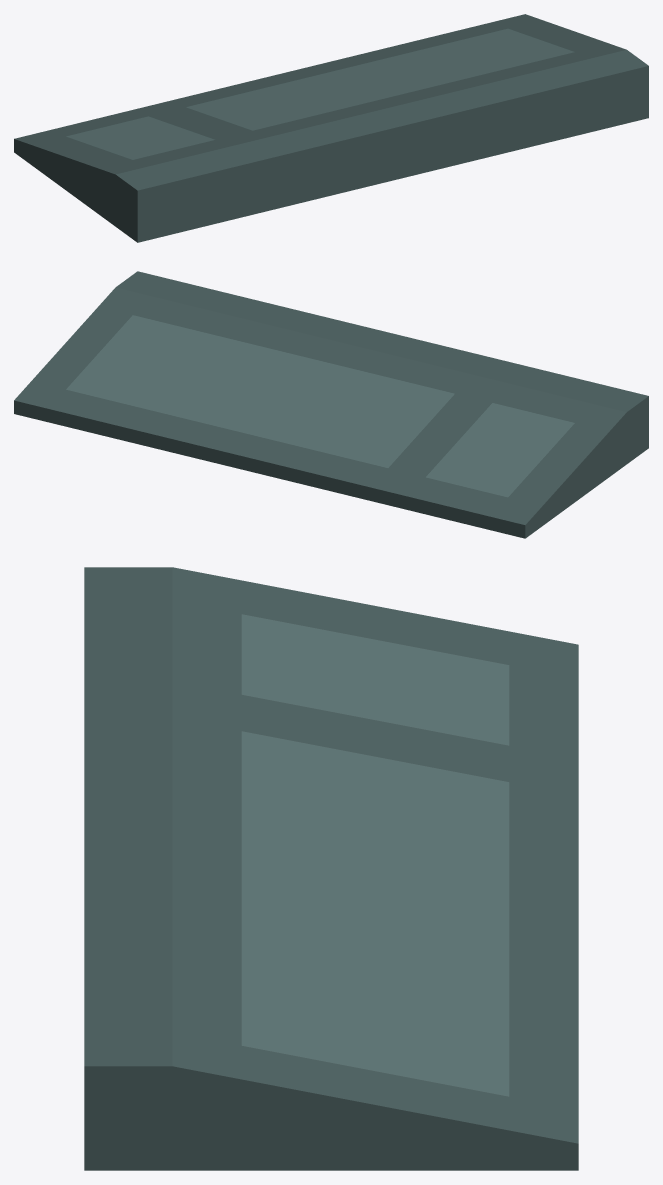
The model's file is computerKeyboard.obj.
The picture shows the model from 3 angles, top to bottom: view 1: azimuth 30°, elevation 25°; view 2: azimuth 150°, elevation 25°; view 3: azimuth 270°, elevation 25°; orthographic projection. The views are drawn at different scales.
Visible parts, largest first — view 1: computerKeyboard; view 2: computerKeyboard; view 3: computerKeyboard.
Boxes of the visible parts, x1,y1,x2,y2 form: computerKeyboard: [14, 14, 648, 242]; computerKeyboard: [14, 271, 648, 538]; computerKeyboard: [84, 567, 578, 1170].
Size of the model in its own units: 0.2822 by 0.0276 by 0.1182.
